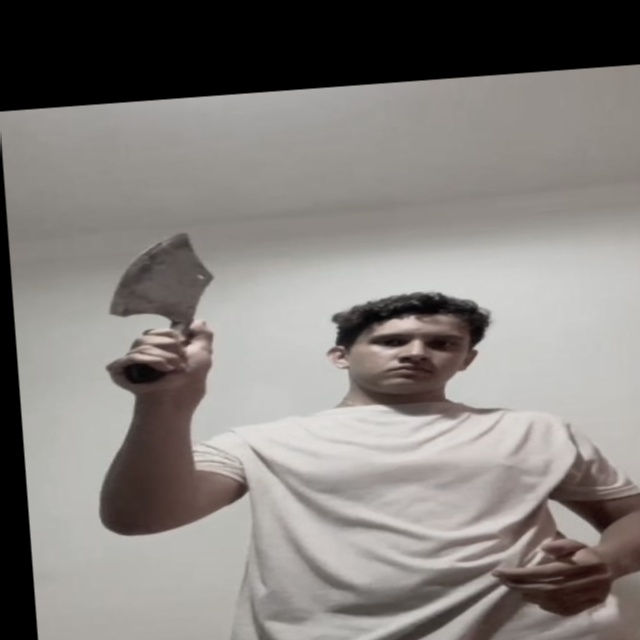Sharp-Object: (101, 230, 224, 326)
